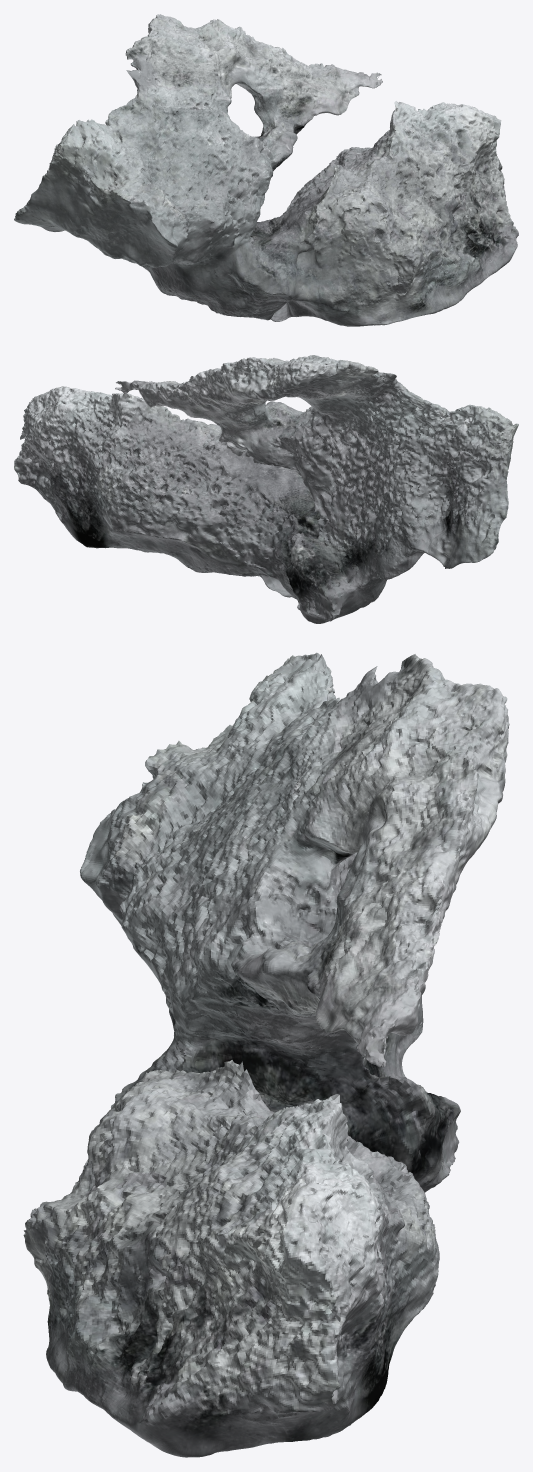
3 renders of one model, top to bottom at view 1: azimuth 30°, elevation 25°; view 2: azimuth 150°, elevation 25°; view 3: azimuth 270°, elevation 25°, orthographic. The views are drawn at different scales.
Size of the model in its own units: 18 by 9.97 by 8.11.
1 material, 1 textured.
